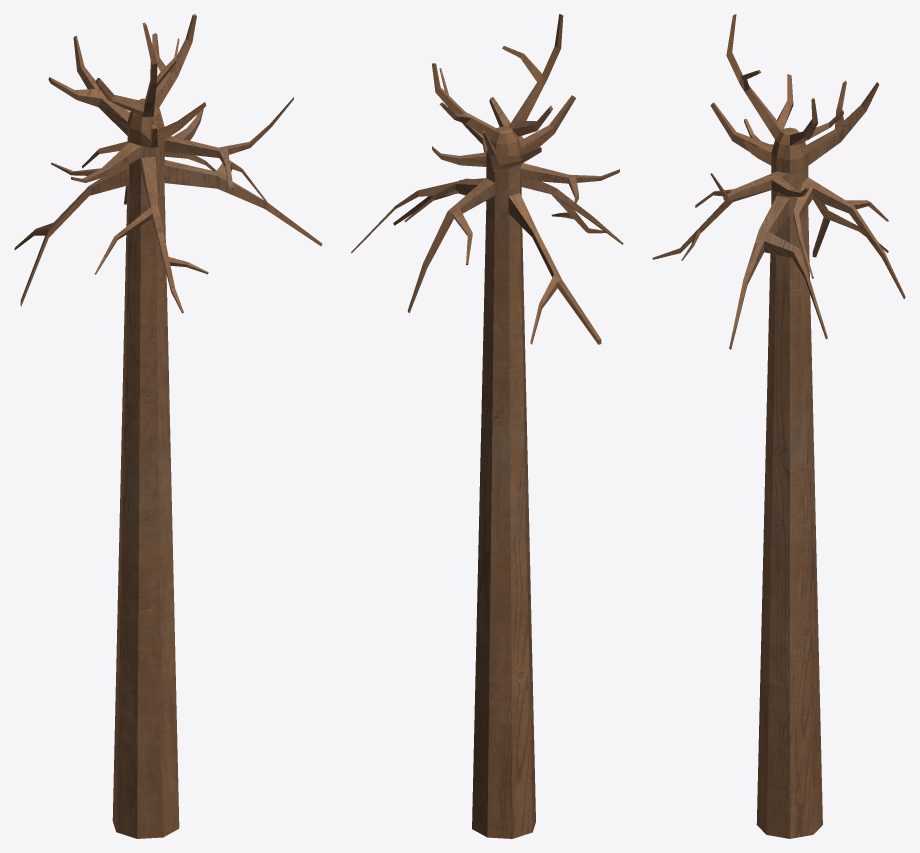
File: palma.glb
The picture shows the model from 3 angles, left to right: view 1: azimuth 30°, elevation 25°; view 2: azimuth 150°, elevation 25°; view 3: azimuth 270°, elevation 25°; orthographic projection. The views are drawn at different scales.
Visible parts, largest first — view 1: Cylinder; view 2: Cylinder; view 3: Cylinder.
Part boxes in pixels (left/top/right/bottom): Cylinder: left=14, top=14, right=322, bottom=838; Cylinder: left=351, top=14, right=623, bottom=838; Cylinder: left=652, top=14, right=905, bottom=838.
Bounding box in the file's own units: 2.53 × 7.74 × 2.23.
Materials: 1 (1 with a texture image).
